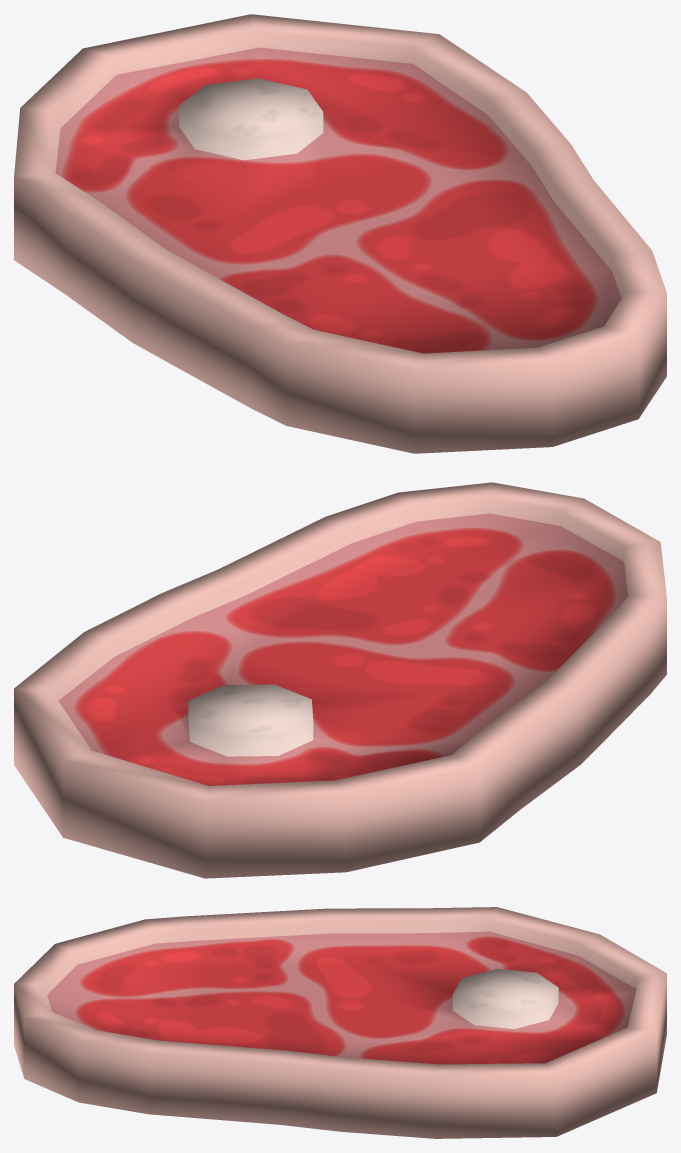
File: carne.fbx
3 renders of one model, top to bottom at view 1: azimuth 30°, elevation 25°; view 2: azimuth 150°, elevation 25°; view 3: azimuth 270°, elevation 25°, orthographic. The views are drawn at different scales.
Parts seen in each view (by area): view 1: carne; view 2: carne; view 3: carne.
Boxes of the visible parts, x1,y1,x2,y2 form: carne: [14, 14, 666, 453]; carne: [14, 482, 666, 878]; carne: [14, 907, 666, 1138].
Bounding box in the file's own units: 193 × 34.44 × 313.
